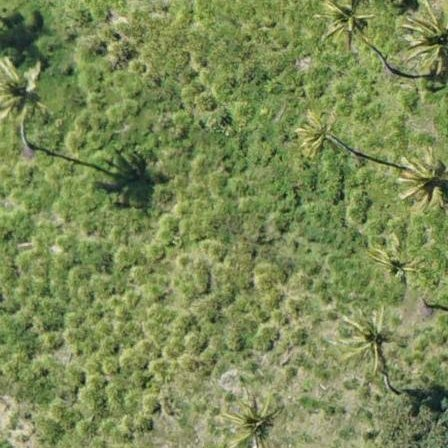palm_tree: (335, 305, 401, 371), (217, 390, 289, 448), (403, 10, 448, 77), (402, 147, 448, 211), (1, 59, 45, 123), (369, 236, 417, 286), (297, 109, 341, 161), (323, 1, 374, 45)
